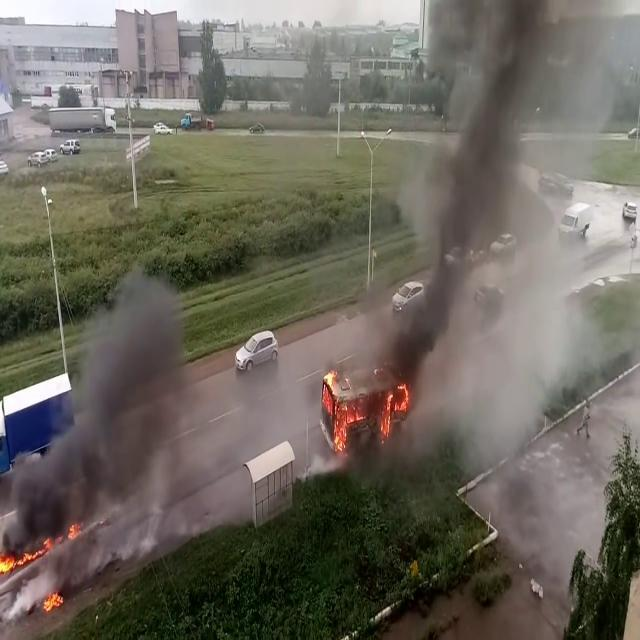Fire: (320, 363, 358, 457), (379, 378, 412, 442), (0, 548, 26, 578), (40, 584, 66, 613)
Smoke: (383, 0, 636, 501), (1, 253, 208, 567)
